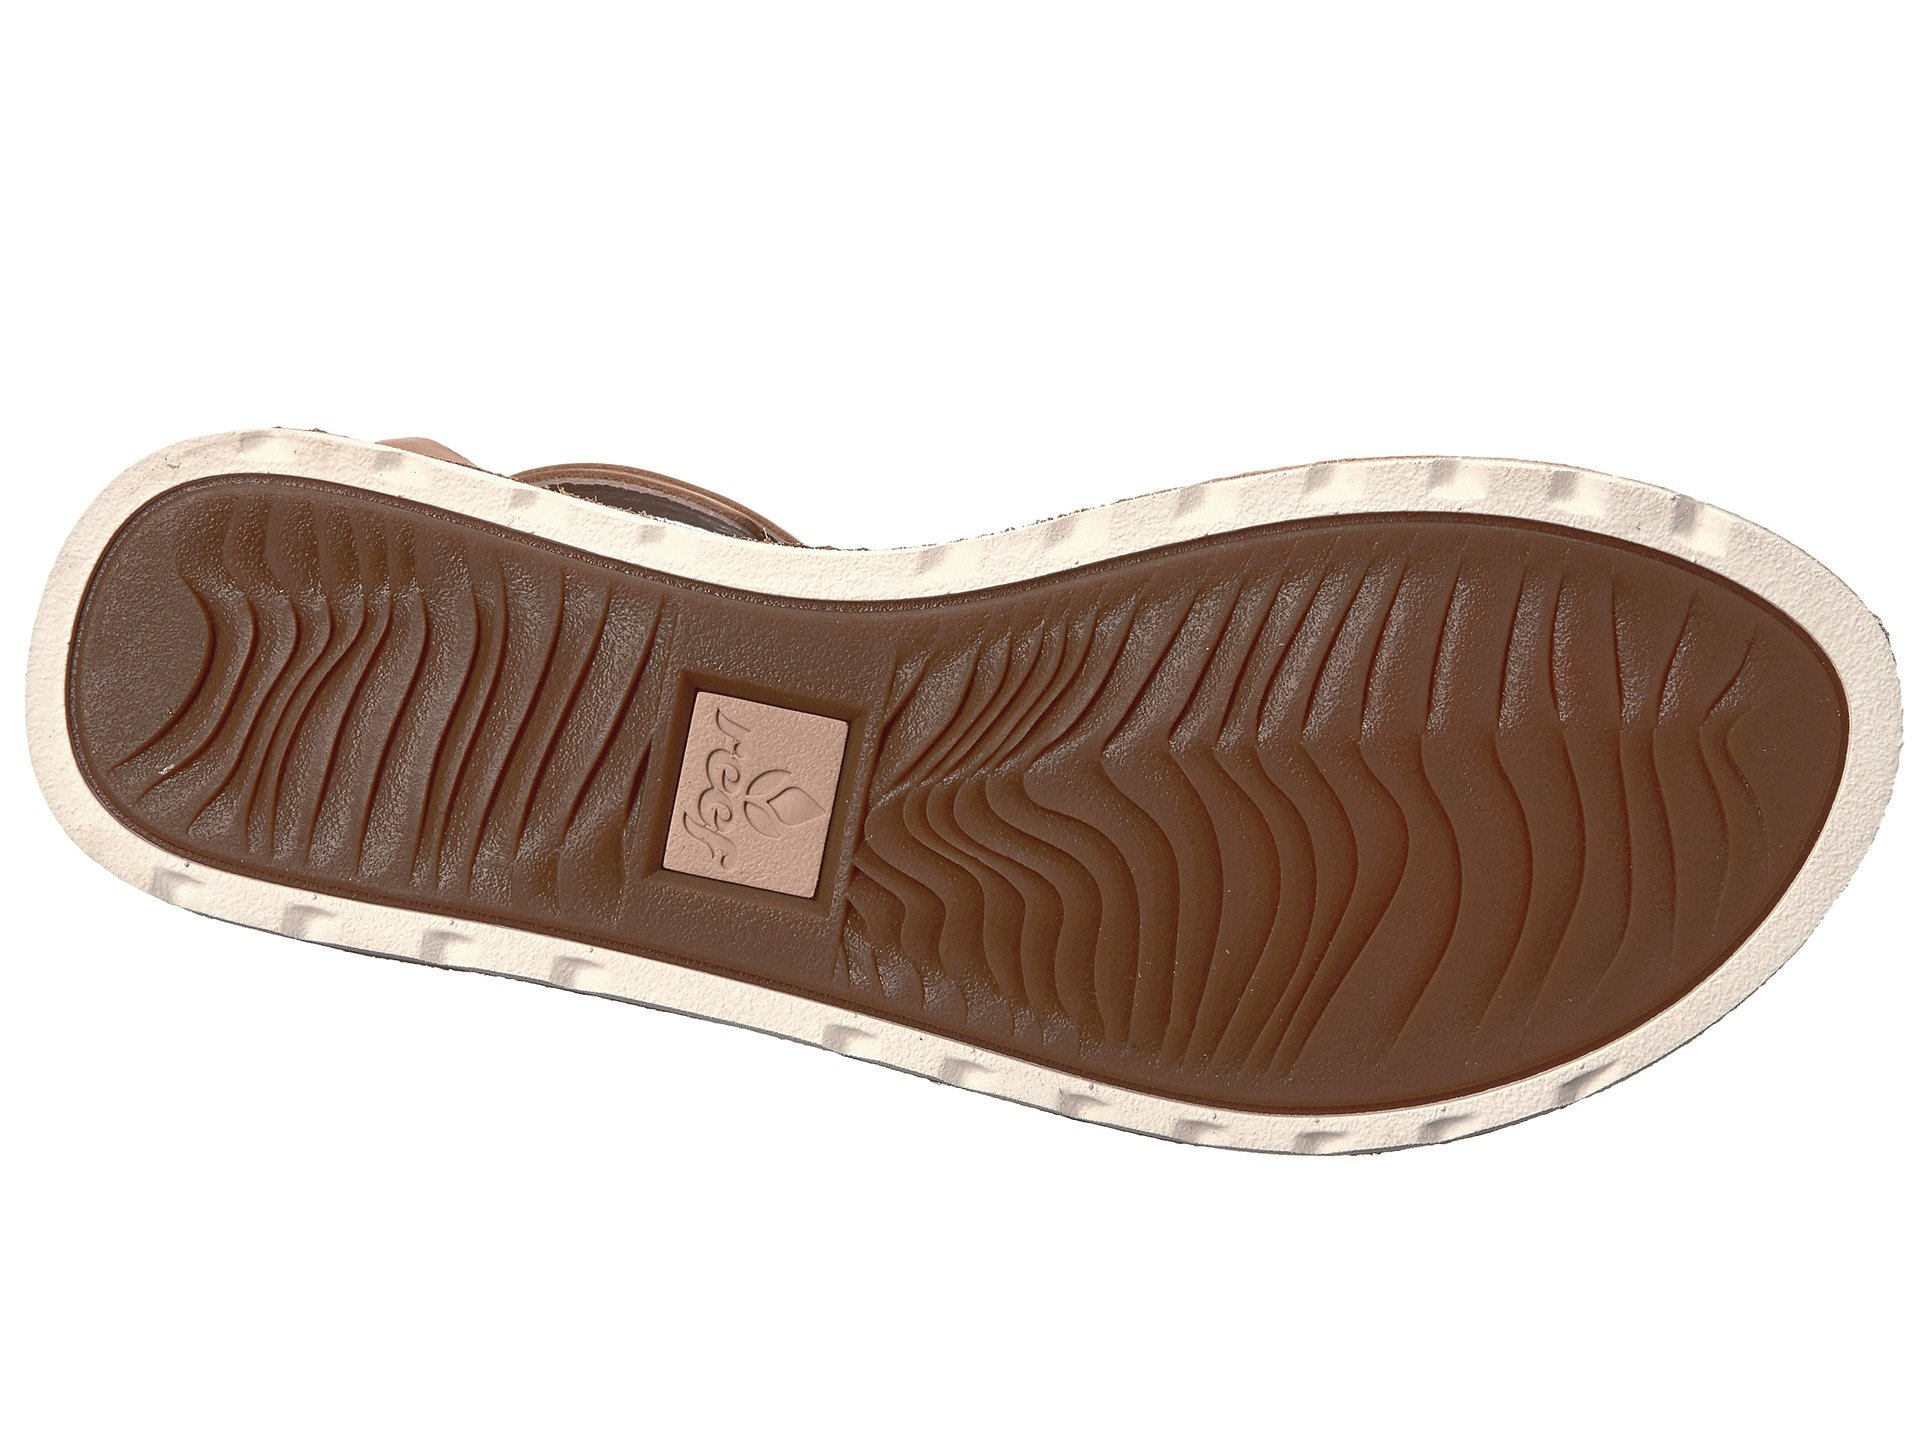line: (215, 638, 393, 826), (1270, 587, 1439, 728)
